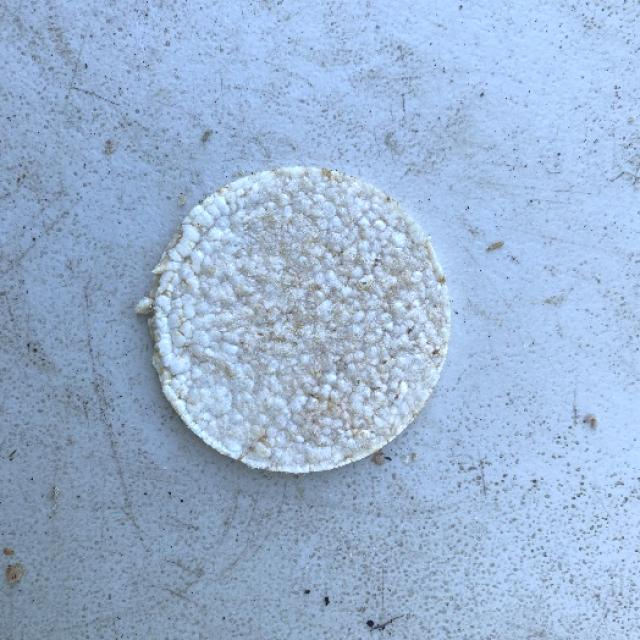organic: (134, 138, 470, 500)
